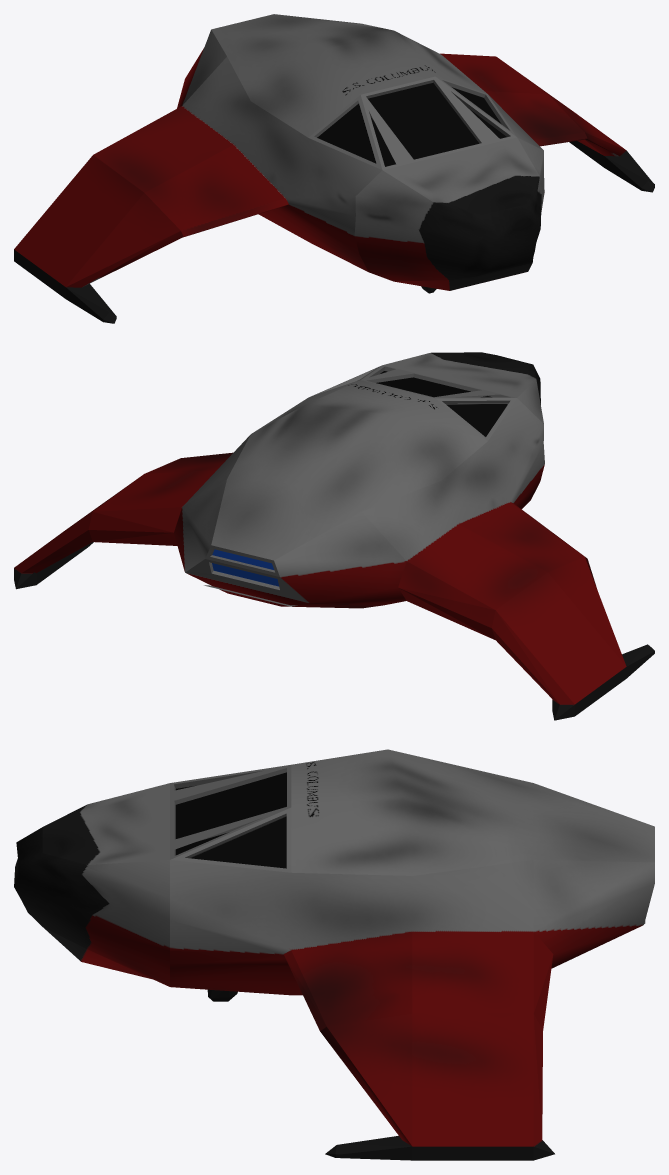
Rendered from columbus_main.FBX.
3 views of the same model, one above another, from view 1: azimuth 30°, elevation 25°; view 2: azimuth 150°, elevation 25°; view 3: azimuth 270°, elevation 25° (orthographic). The views are drawn at different scales.
Visible parts, largest first — view 1: body_main; view 2: body_main; view 3: body_main.
Boxes of the visible parts, x1,y1,x2,y2 form: body_main: [14, 14, 654, 323]; body_main: [14, 352, 654, 720]; body_main: [14, 749, 654, 1160].
Size of the model in its own units: 194 by 64.6 by 164.
